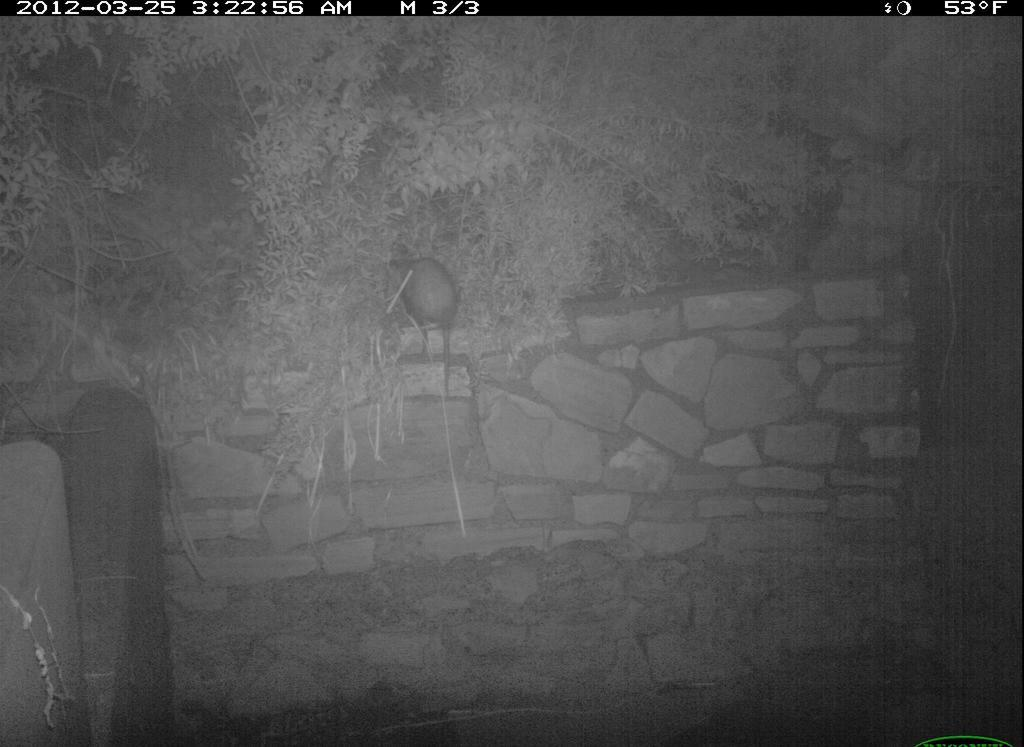opossum: (372, 228, 474, 405)
